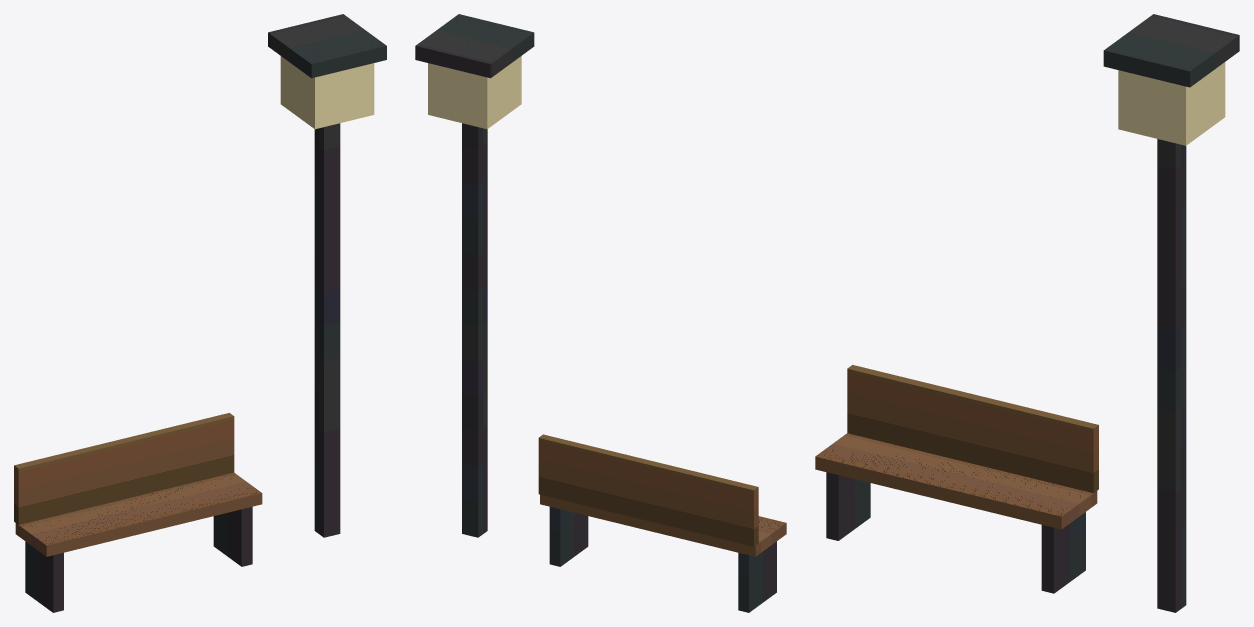
The model's file is banca_farol.glb.
3 renders of one model, left to right at view 1: azimuth 30°, elevation 25°; view 2: azimuth 150°, elevation 25°; view 3: azimuth 330°, elevation 25°, orthographic. The views are drawn at different scales.
Parts seen in each view (by area): view 1: banca_farol; view 2: banca_farol; view 3: banca_farol.
Part boxes in pixels (x1,y1,x2,y2): banca_farol: [14, 14, 386, 612]; banca_farol: [415, 14, 786, 612]; banca_farol: [815, 14, 1239, 612].
Size of the model in its own units: 2.48 by 3.5 by 0.56.
Materials: 3 (3 with a texture image).
